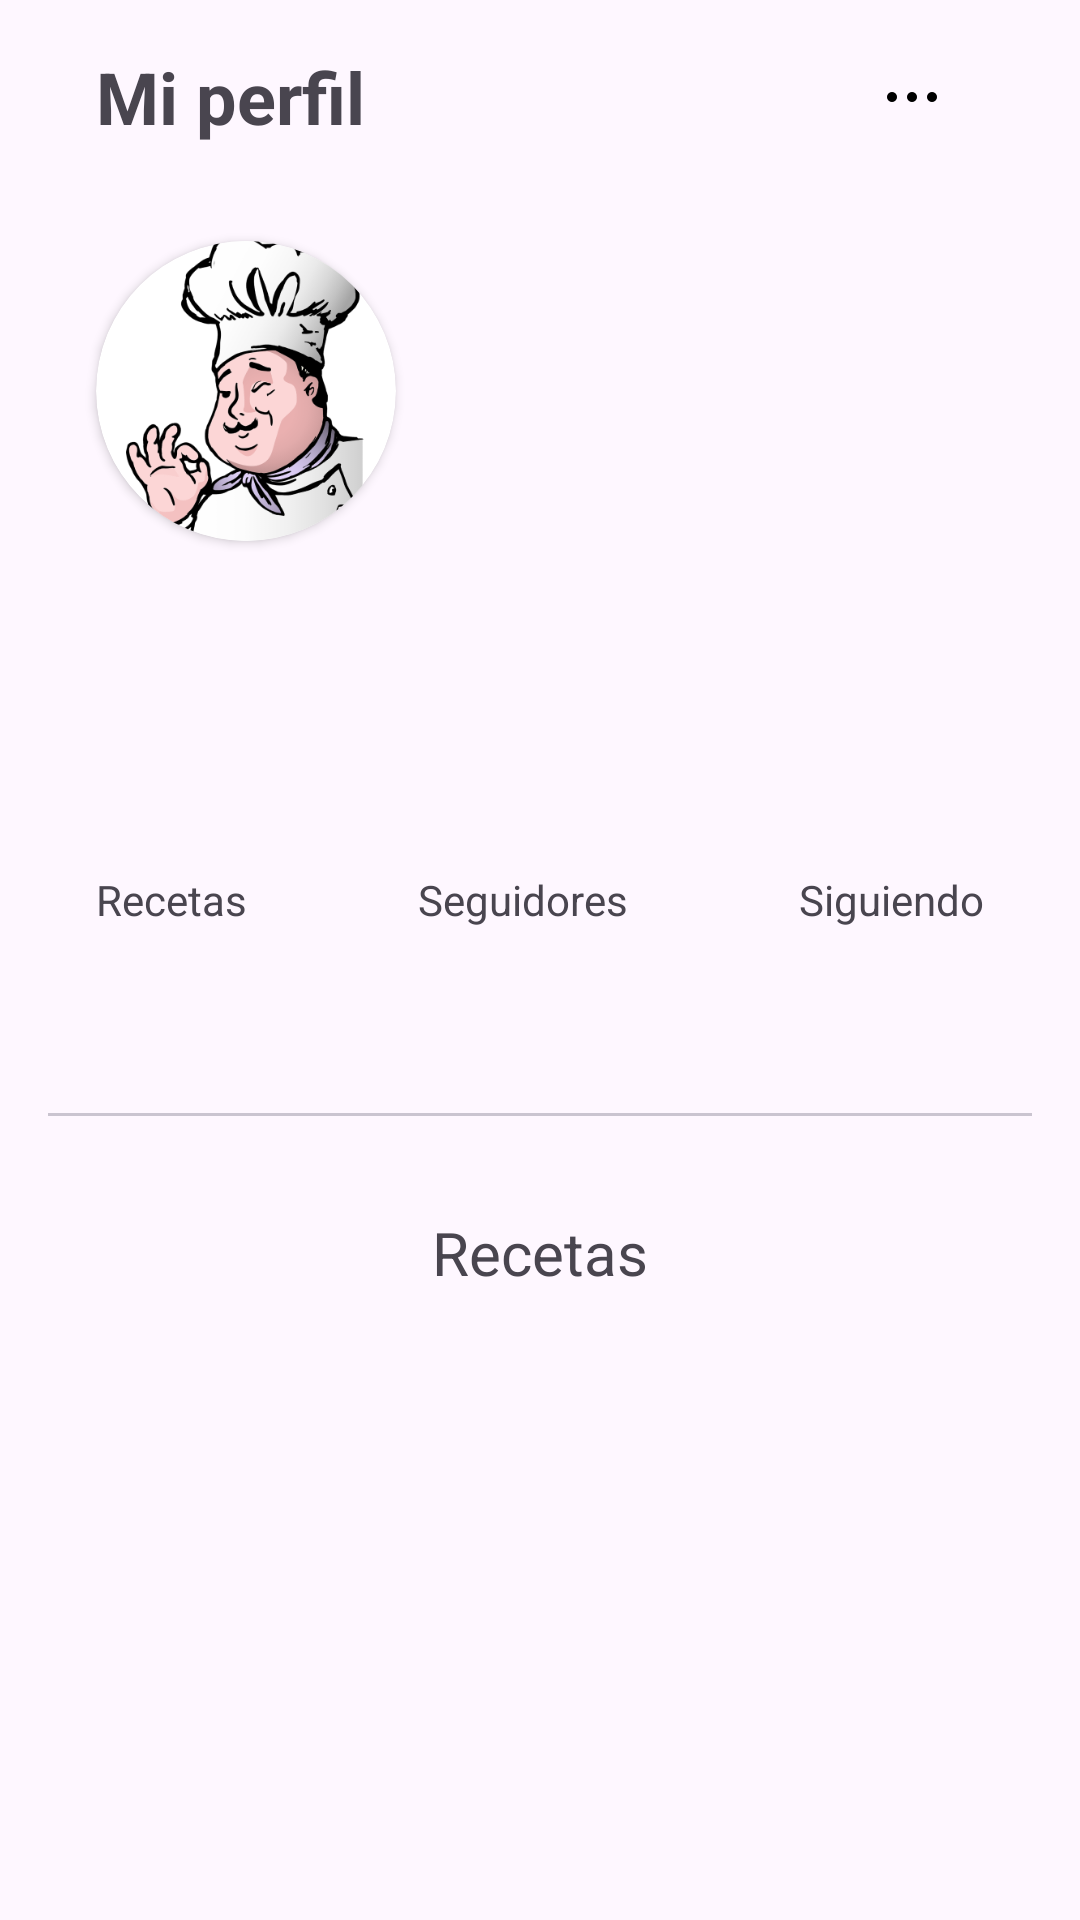

Named icons in this screenshot (1080px x 1920px) and their bounding boxes, [left=x1, top=y1, right=x2, bottom=y2]:
Botón más opciones: [left=887, top=92, right=937, bottom=102]
Imagen del usuario: [left=96, top=241, right=396, bottom=541]
